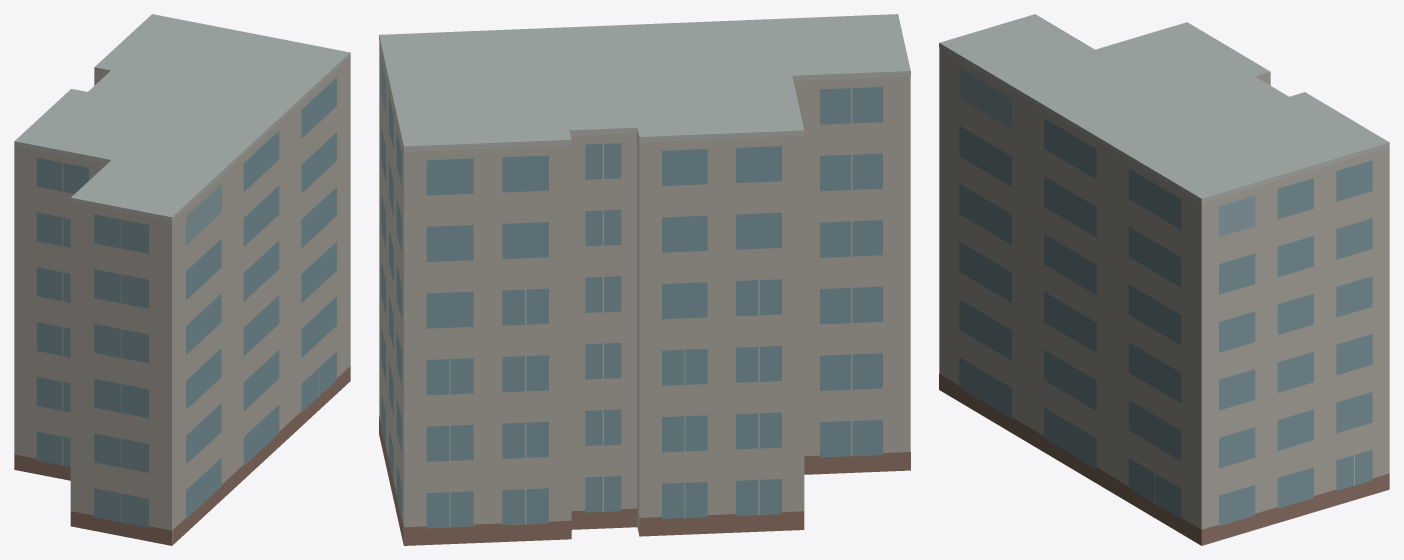
Rendered from survey-upis-32711817.glb.
3 views of the same model, side by side, from view 1: azimuth 30°, elevation 25°; view 2: azimuth 150°, elevation 25°; view 3: azimuth 270°, elevation 25° (orthographic). The views are drawn at different scales.
Parts seen in each view (by area): view 1: survey-upis-32711817.tmp; view 2: survey-upis-32711817.tmp; view 3: survey-upis-32711817.tmp.
Boxes of the visible parts, x1=… form: survey-upis-32711817.tmp: x1=14, y1=14, x2=350, y2=545; survey-upis-32711817.tmp: x1=379, y1=14, x2=910, y2=545; survey-upis-32711817.tmp: x1=939, y1=14, x2=1389, y2=545.
Size of the model in its own units: 20.91 by 18.3 by 21.53.
